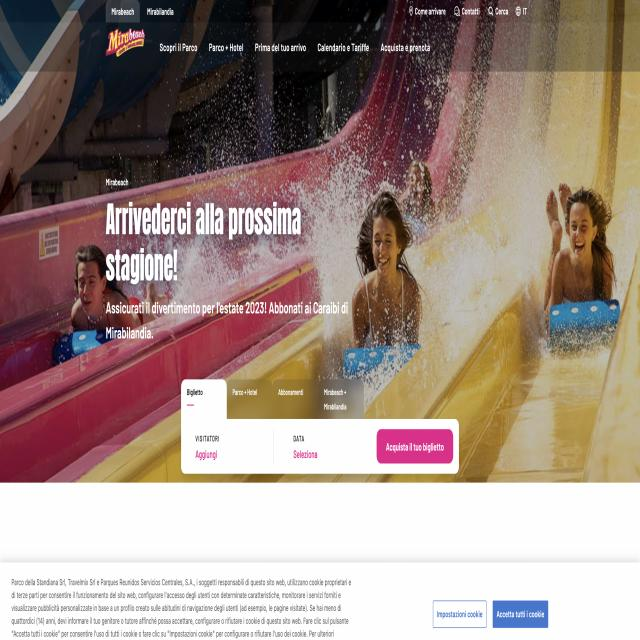Logo: (105, 23, 152, 66)
Navigation: (155, 35, 468, 66)
